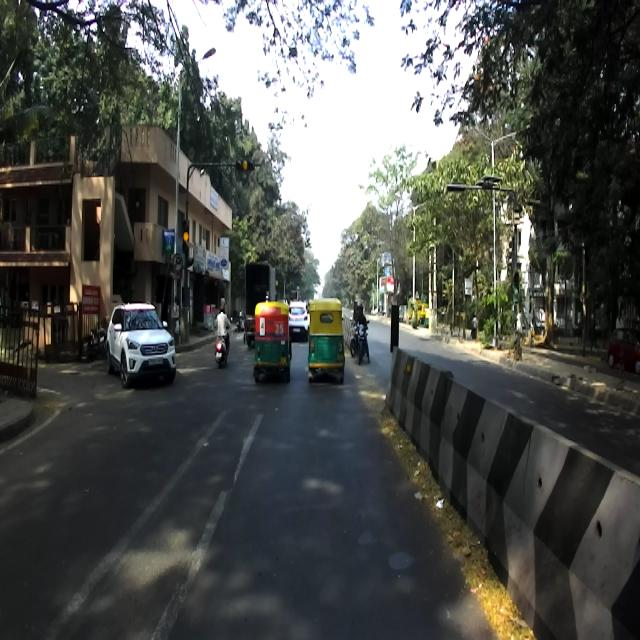auto ahead at: (252, 296, 292, 389), (307, 299, 343, 383)
car ahead at: (104, 296, 179, 386)
traffic signal ahead at: (178, 218, 198, 270), (230, 150, 258, 182)
